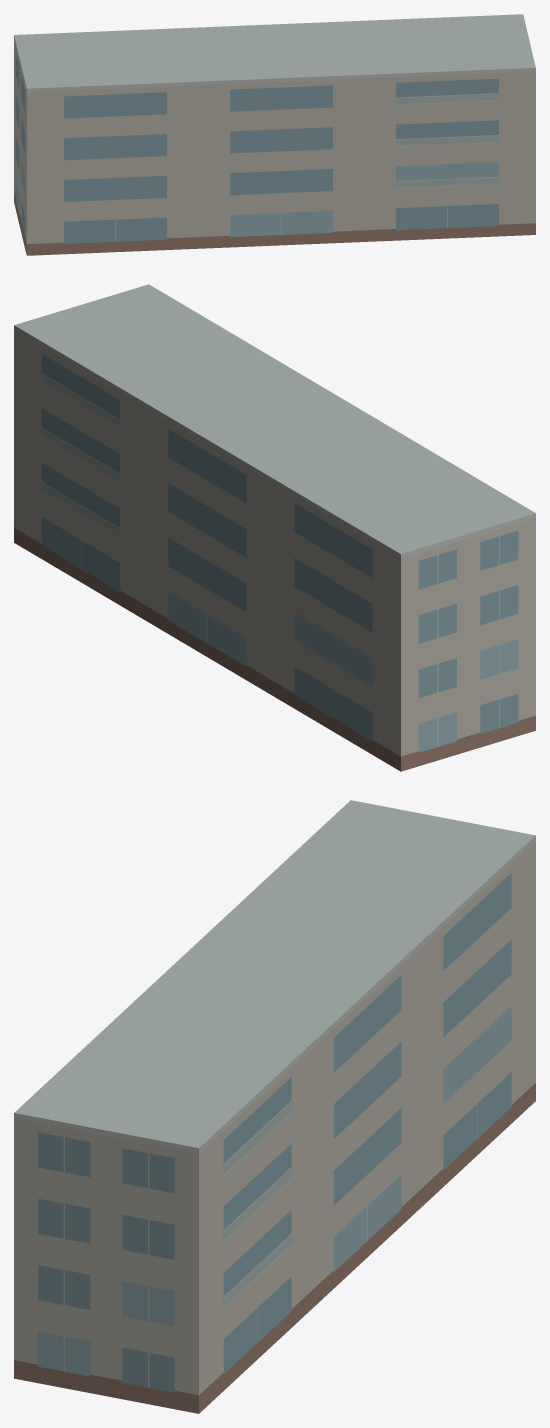
The model's file is survey-upis-32829462.glb.
3 renders of one model, top to bottom at view 1: azimuth 30°, elevation 25°; view 2: azimuth 150°, elevation 25°; view 3: azimuth 270°, elevation 25°, orthographic. The views are drawn at different scales.
Visible parts, largest first — view 1: survey-upis-32829462.tmp; view 2: survey-upis-32829462.tmp; view 3: survey-upis-32829462.tmp.
Boxes of the visible parts, left/top/right/bottom form: survey-upis-32829462.tmp: left=14, top=14, right=535, bottom=255; survey-upis-32829462.tmp: left=14, top=284, right=535, bottom=771; survey-upis-32829462.tmp: left=14, top=800, right=535, bottom=1413.
Bounding box in the file's own units: 32.6 × 11.6 × 20.66.
